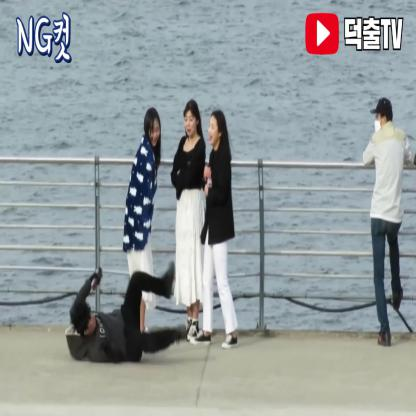Fall_Down: (69, 259, 188, 367)
